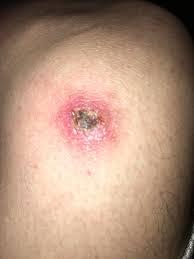Spider: (50, 87, 126, 157)
